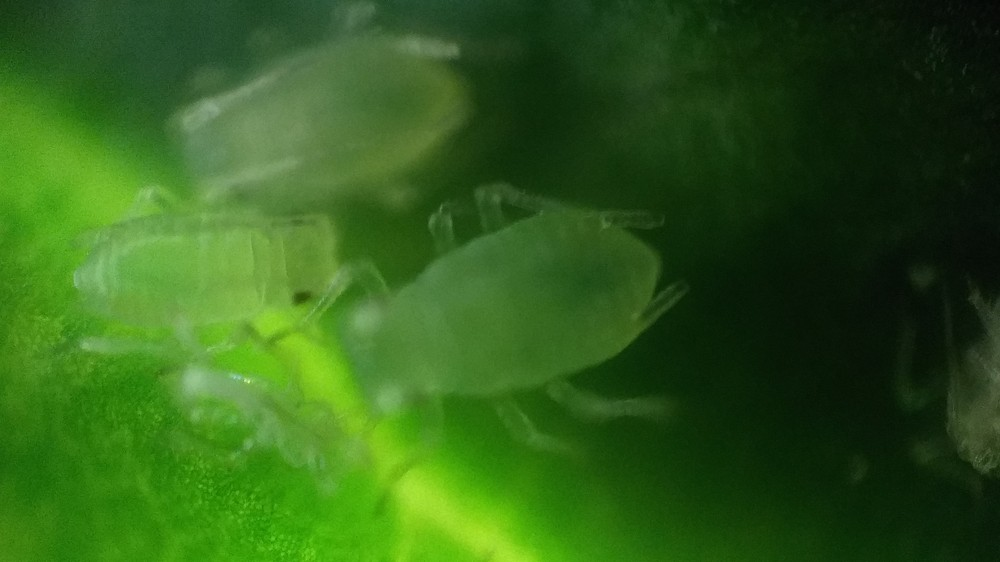Pulgon: (320, 174, 731, 468), (42, 163, 385, 405), (160, 13, 504, 236)
